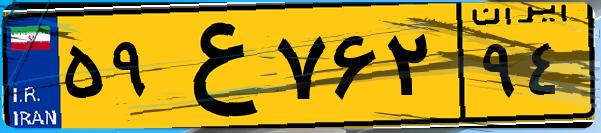2: (385, 28, 445, 110)
4: (525, 38, 570, 115)
5: (57, 26, 110, 100)
6: (330, 28, 385, 110)
7: (270, 28, 330, 110)
9: (475, 38, 525, 113), (110, 28, 158, 98)
ع: (158, 12, 270, 120)
